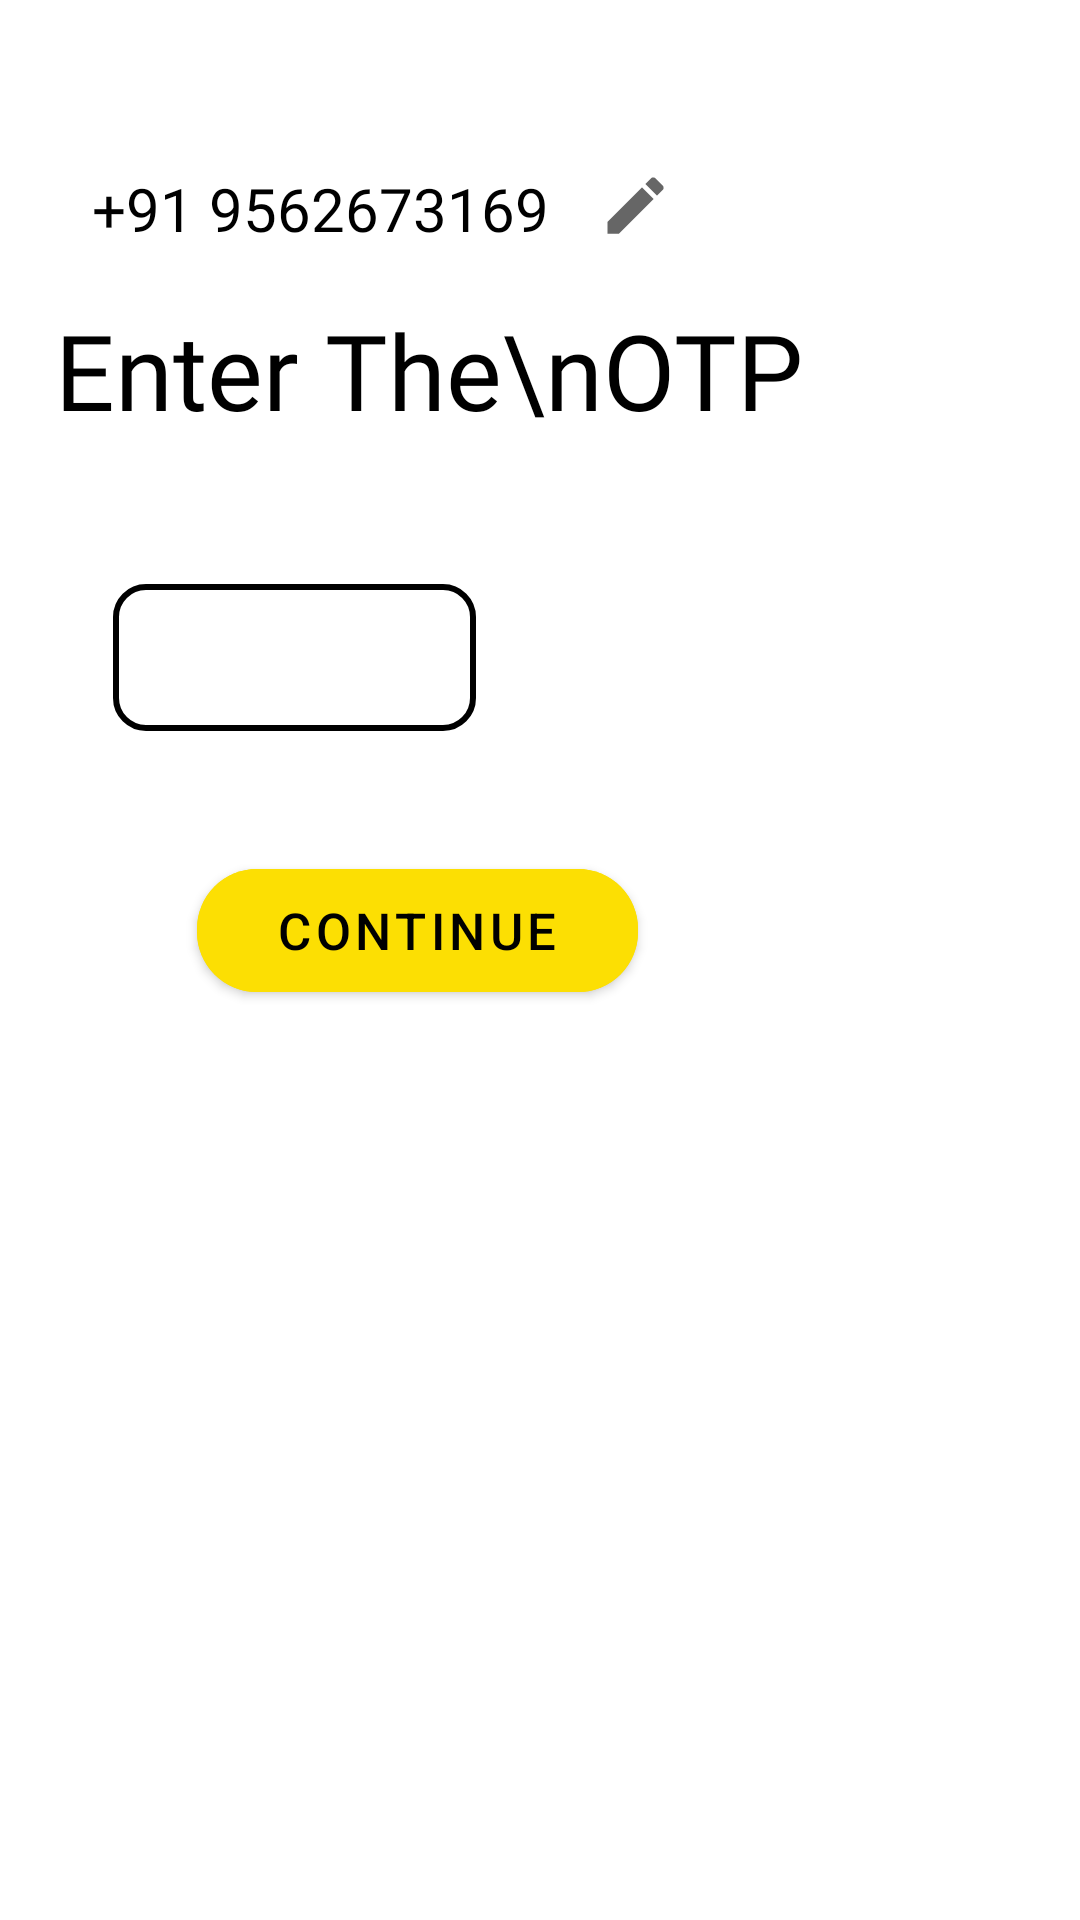

Point at icon controls on the screen. Image size 1080x1920, points as [x,y].
edit: [635,205]
